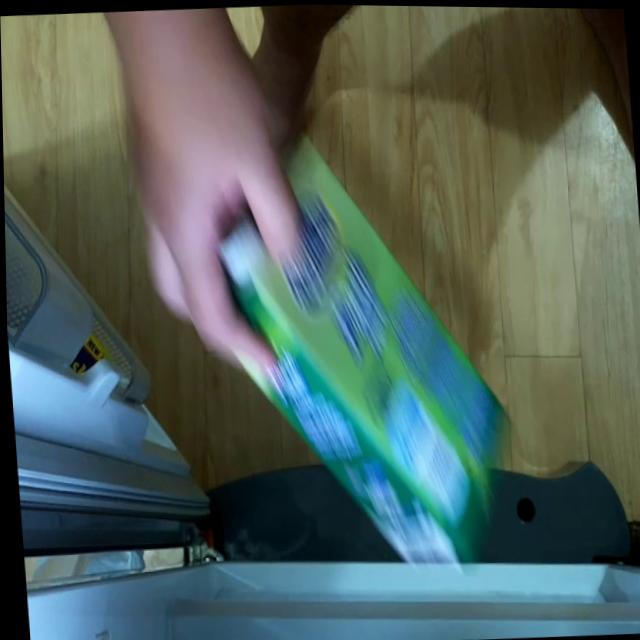milk: (210, 133, 518, 574)
